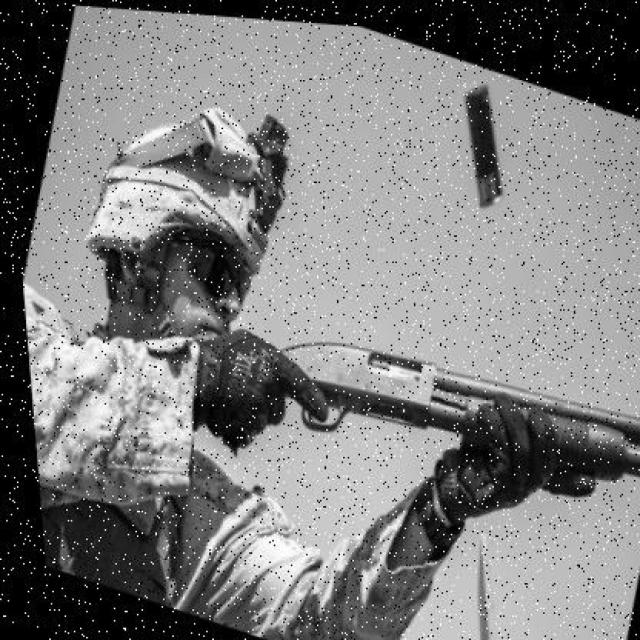weapon: (87, 342, 640, 540)
